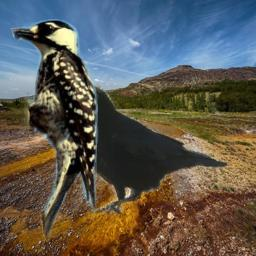Crow: (48, 79, 227, 214)
Woodpecker: (9, 19, 102, 239)
